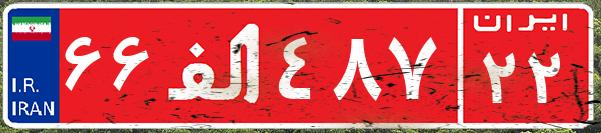2: (475, 38, 525, 113), (525, 38, 570, 115)
4: (273, 28, 330, 110)
6: (57, 26, 110, 107), (110, 28, 158, 105)
7: (385, 28, 445, 110)
8: (330, 28, 385, 110)
الف: (158, 15, 273, 115)
